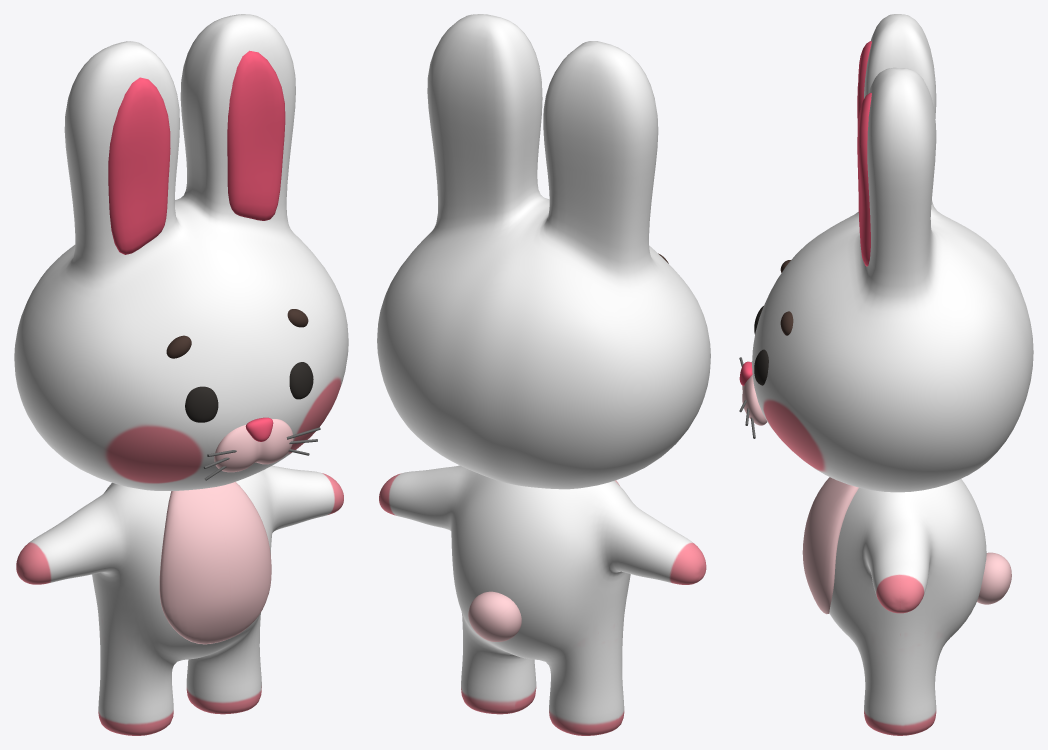
The model's file is rabbit.glb.
3 views of the same model, side by side, from view 1: azimuth 30°, elevation 25°; view 2: azimuth 150°, elevation 25°; view 3: azimuth 270°, elevation 25° (orthographic). The views are drawn at different scales.
Parts seen in each view (by area): view 1: Head_1, Body_2, Ear 2_4, body 2_5, mouth_3, eyes_6, eyebrow_9, moustache_8; view 2: Head_1, Body_2, tail_7; view 3: Head_1, Body_2, body 2_5, Ear 2_4, tail_7, mouth_3, eyes_6.
Boxes of the visible parts, x1,y1,x2,y2 form: Head_1: (14,14,348,490); Body_2: (16,465,343,735); Ear 2_4: (108,50,285,254); body 2_5: (159,482,271,644); mouth_3: (214,419,293,472); eyes_6: (185,362,313,422); eyebrow_9: (166,309,308,358); moustache_8: (203,427,320,480); Head_1: (377,14,710,489); Body_2: (379,465,706,735); tail_7: (468,591,521,641); Head_1: (752,14,1033,492); Body_2: (829,479,986,735); body 2_5: (802,477,858,614); Ear 2_4: (857,41,871,266); tail_7: (977,552,1011,604); mouth_3: (742,362,767,425); eyes_6: (754,306,768,385).
Size of the model in its own units: 2 by 4.09 by 1.66.
8 materials, 4 textured.
